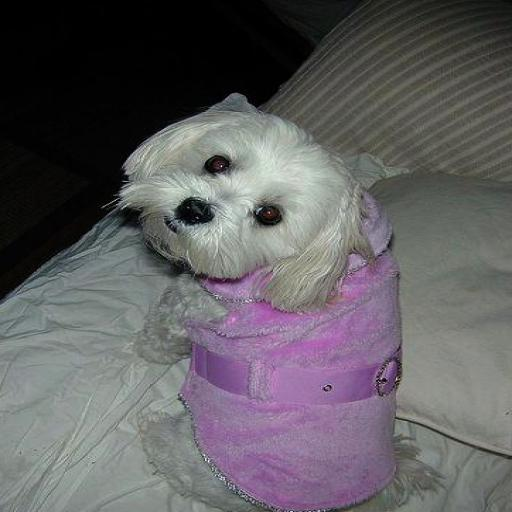dog_face: (122, 102, 369, 289)
